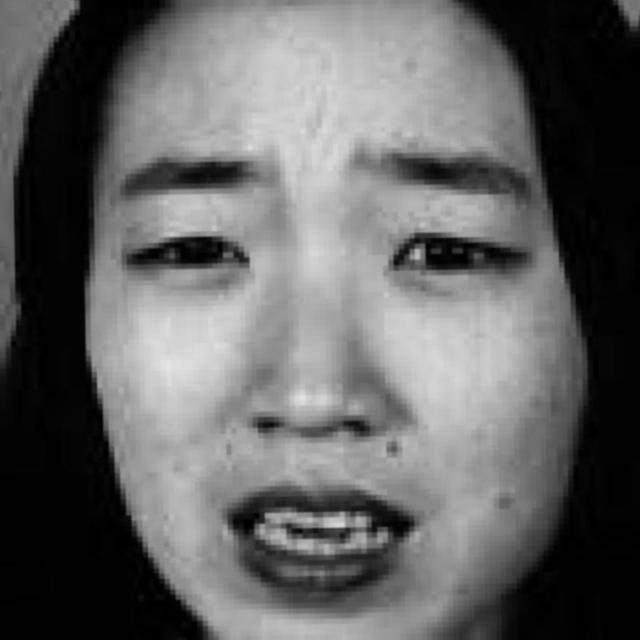fear: (80, 25, 537, 629)
